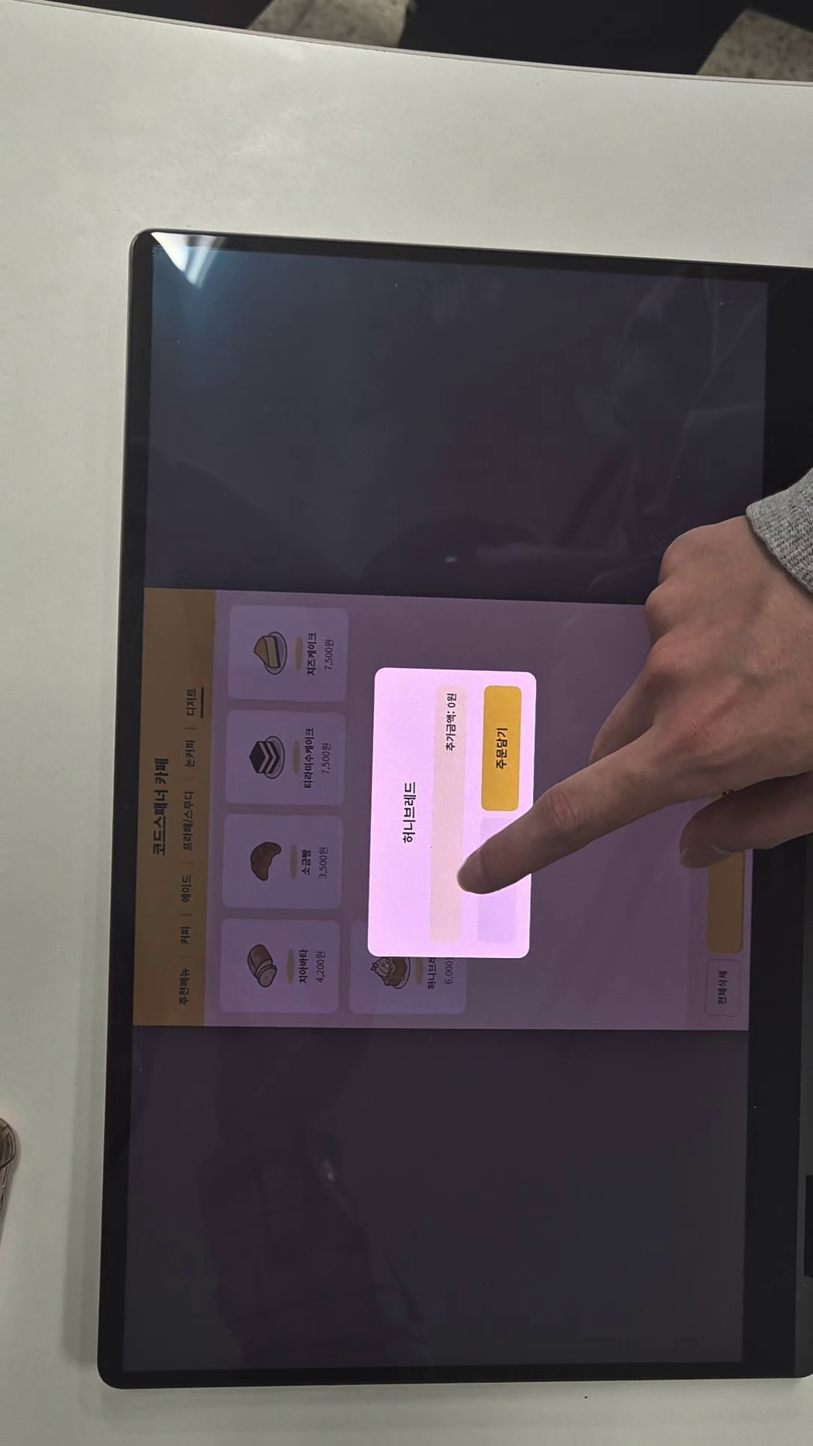action_button: (481, 817, 521, 942), (481, 683, 519, 811)
popup_modal: (373, 664, 538, 954)
